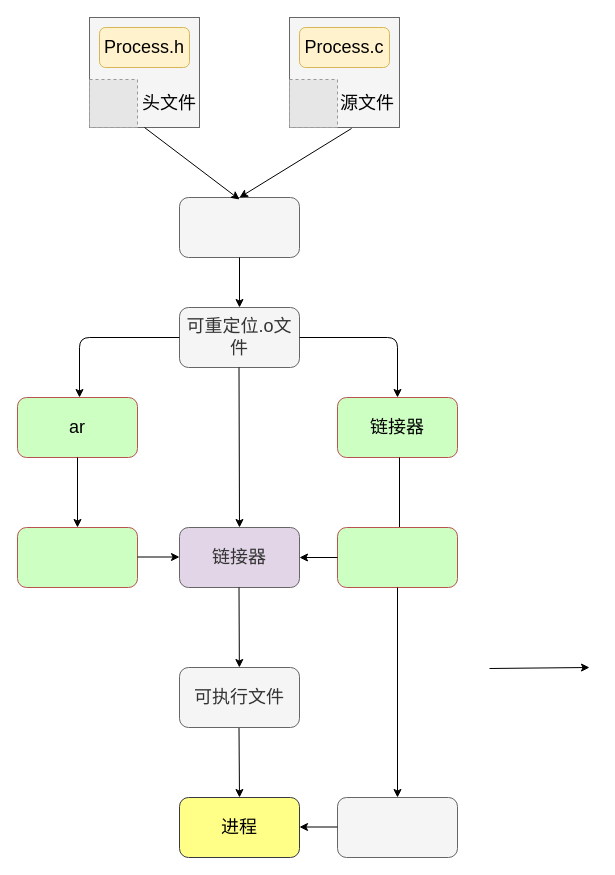
The diagram is 615 pixels wide and 875 high, and some of its shapes have lost their labels. Grey dashed boxes stand in for pictures. The shapes that lost their labels are listed below. From the top down, each one's centre as x and y in pixels, then its label:
At point (239, 227): "编译".
At point (77, 557): "静态链接库".
At point (397, 557): "动态链接库".
At point (397, 827): "动态链接器".
